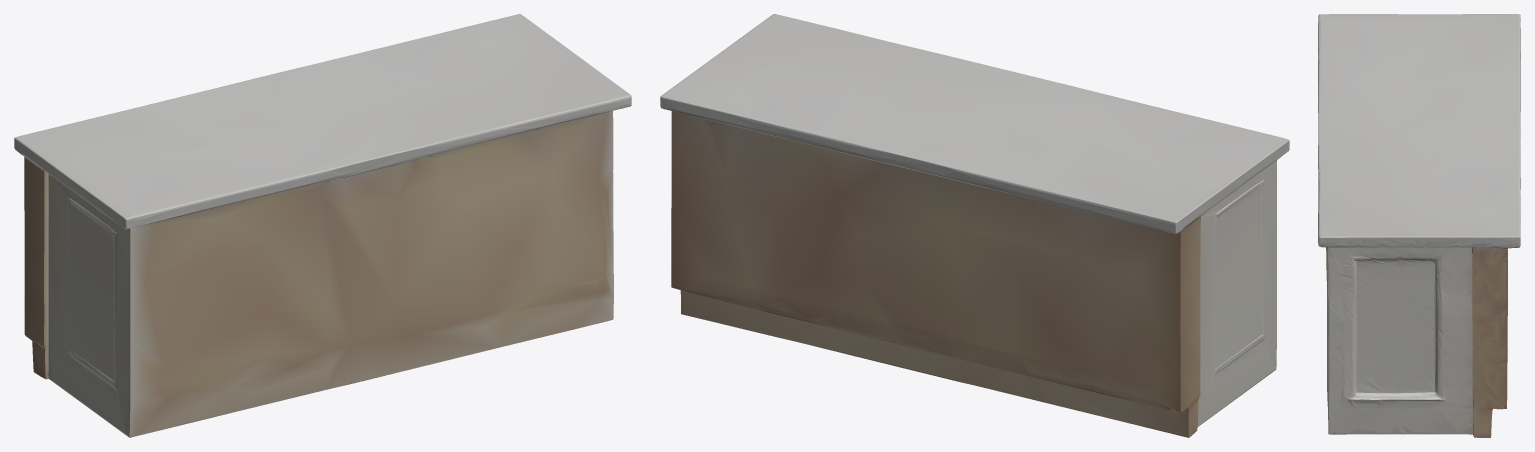
3 views of the same model, side by side, from view 1: azimuth 30°, elevation 25°; view 2: azimuth 150°, elevation 25°; view 3: azimuth 270°, elevation 25° (orthographic). The views are drawn at different scales.
Parts seen in each view (by area): view 1: geometry_0; view 2: geometry_0; view 3: geometry_0.
Boxes of the visible parts, left/top/right/bottom form: geometry_0: left=14, top=14, right=631, bottom=437; geometry_0: left=660, top=14, right=1289, bottom=437; geometry_0: left=1318, top=14, right=1520, bottom=437.
Bounding box in the file's own units: 1 × 0.4255 × 0.384.
